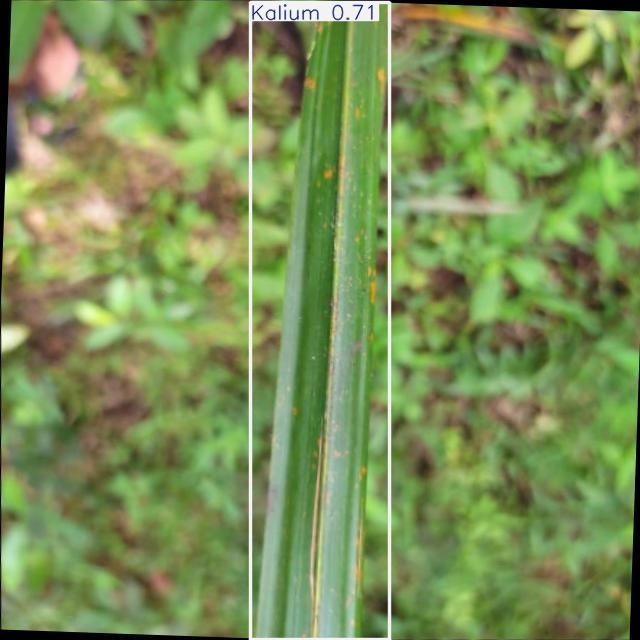Kalium: (250, 2, 389, 640)
